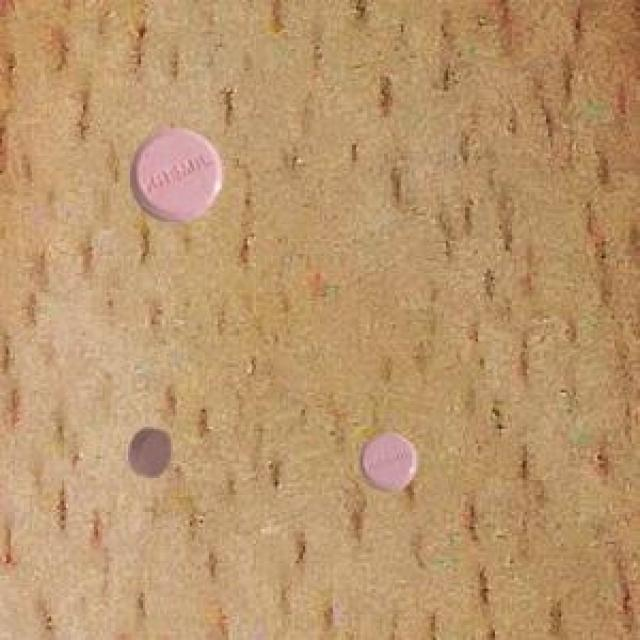Kremil_S: (112, 115, 236, 227), (347, 420, 428, 498), (120, 419, 176, 486)
